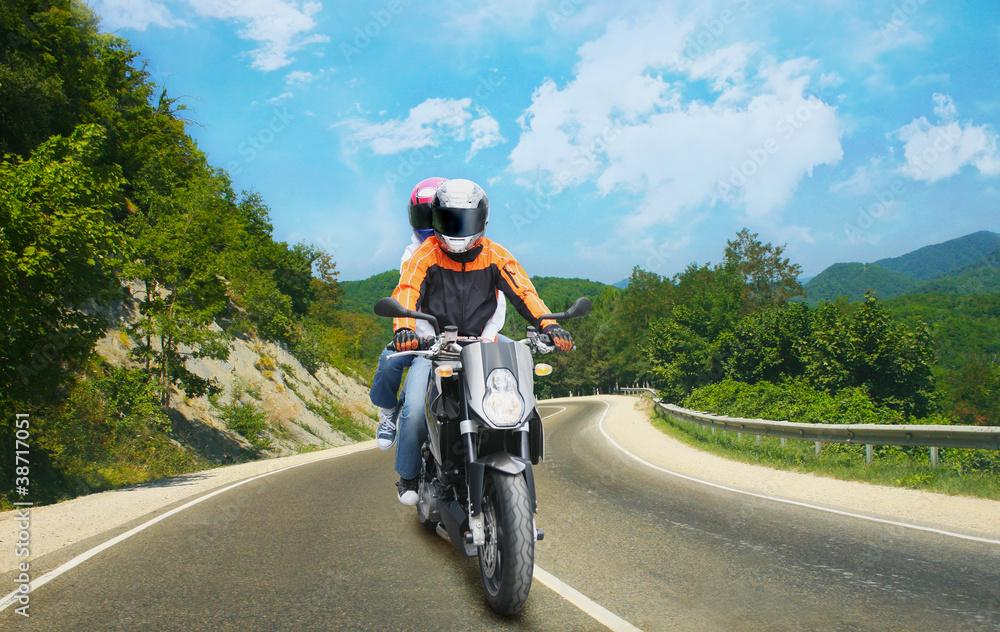helmet: (431, 178, 492, 256), (407, 176, 463, 248)
